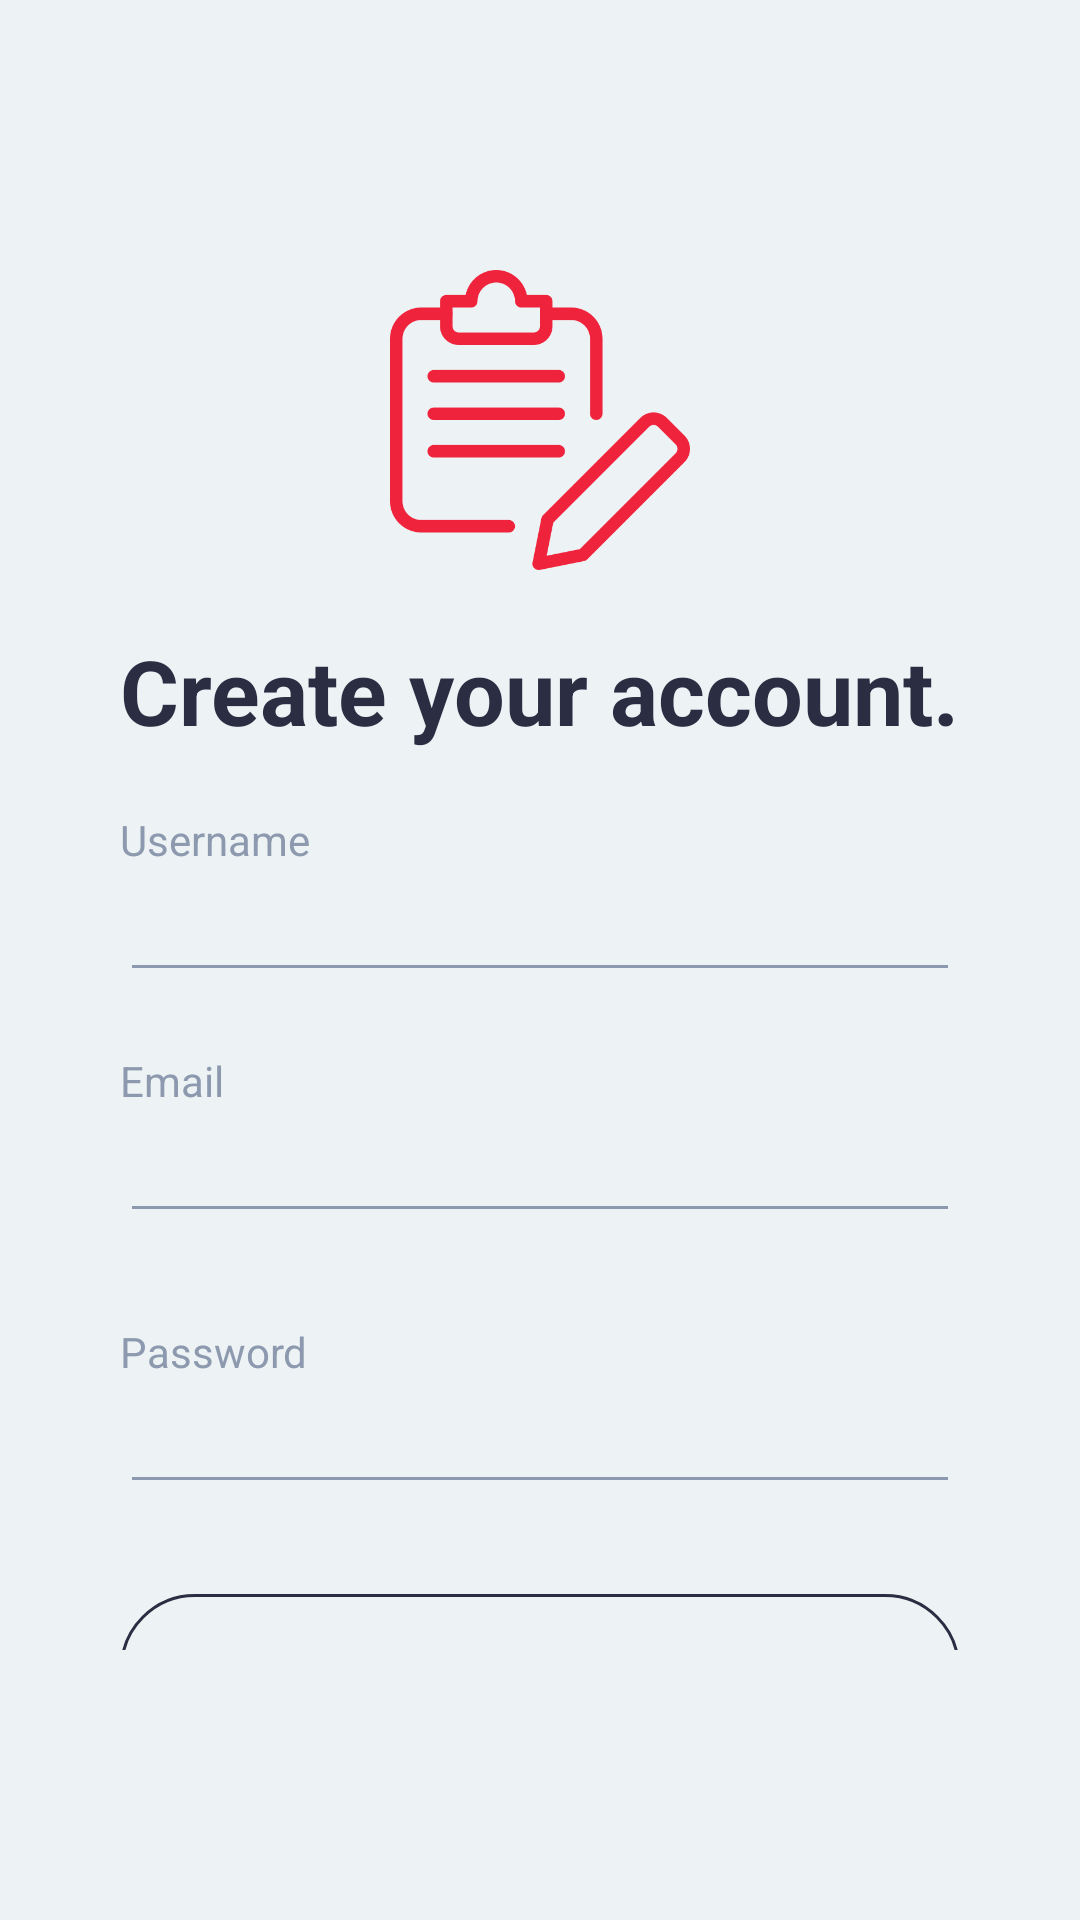

Screen size 1080 × 1920. Icon name, then its center in pixels as [x,y]:
register: [540,420]
